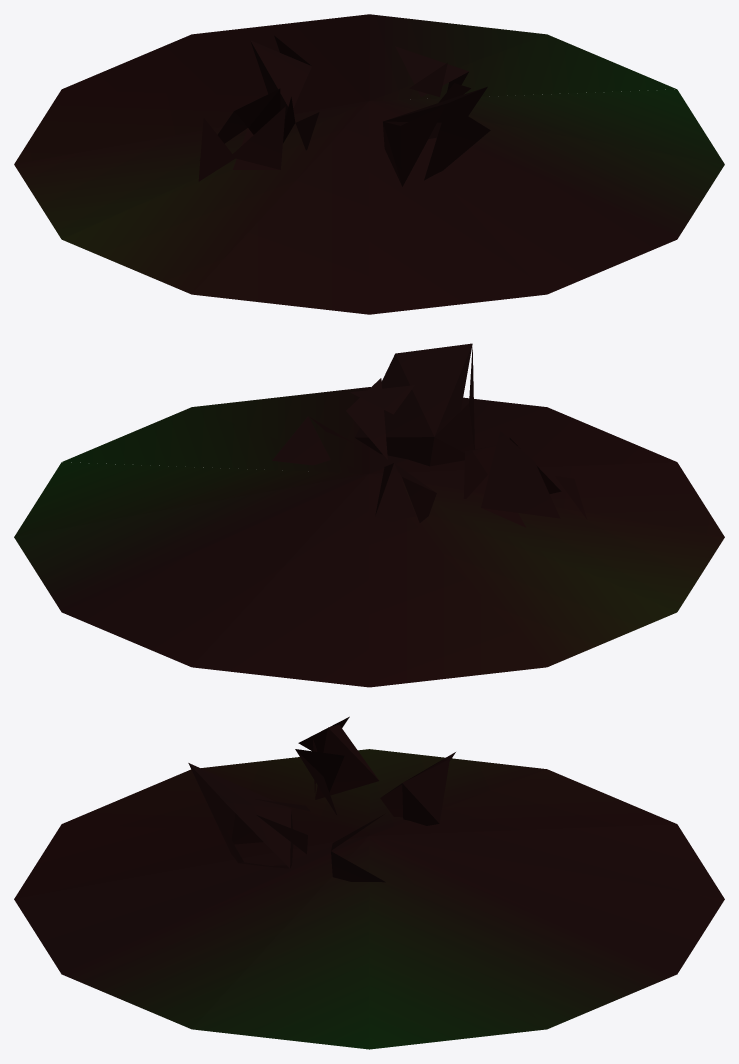
Rendered from tf_talus_patch_6m_lod2.glb.
3 renders of one model, top to bottom at view 1: azimuth 30°, elevation 25°; view 2: azimuth 150°, elevation 25°; view 3: azimuth 270°, elevation 25°, orthographic.
Visible parts, largest first — view 1: tf_talus_patch_6m_lod2; view 2: tf_talus_patch_6m_lod2; view 3: tf_talus_patch_6m_lod2.
Boxes of the visible parts, box(x1,y1,x2,y2) form: tf_talus_patch_6m_lod2: box(14, 14, 724, 314); tf_talus_patch_6m_lod2: box(14, 343, 724, 687); tf_talus_patch_6m_lod2: box(14, 716, 724, 1049).
Bounding box in the file's own units: 6.6 × 1.34 × 6.6.
